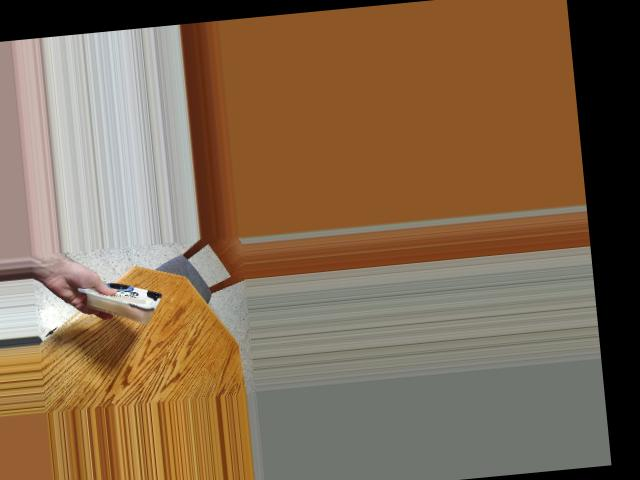cheese: (83, 264, 161, 332)
